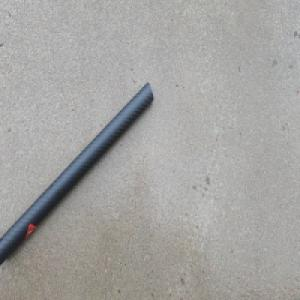LuggagePart: (0, 80, 154, 266)
